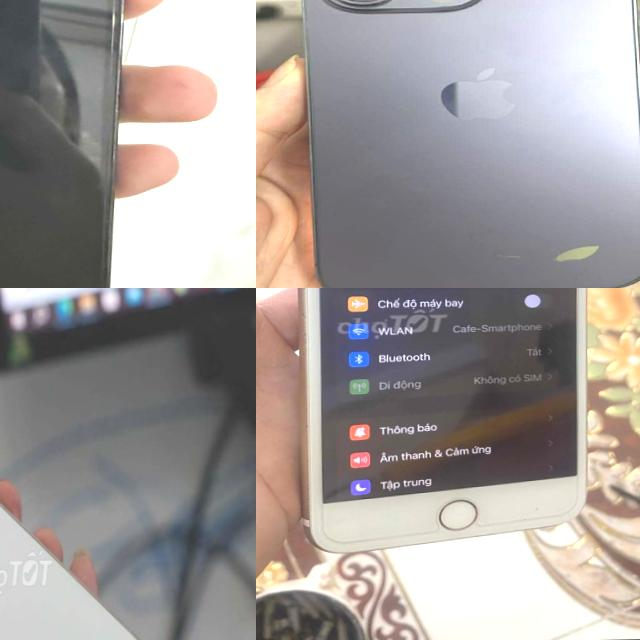scratch: (296, 288, 313, 435), (546, 235, 604, 268), (486, 242, 536, 272), (514, 498, 542, 522)
